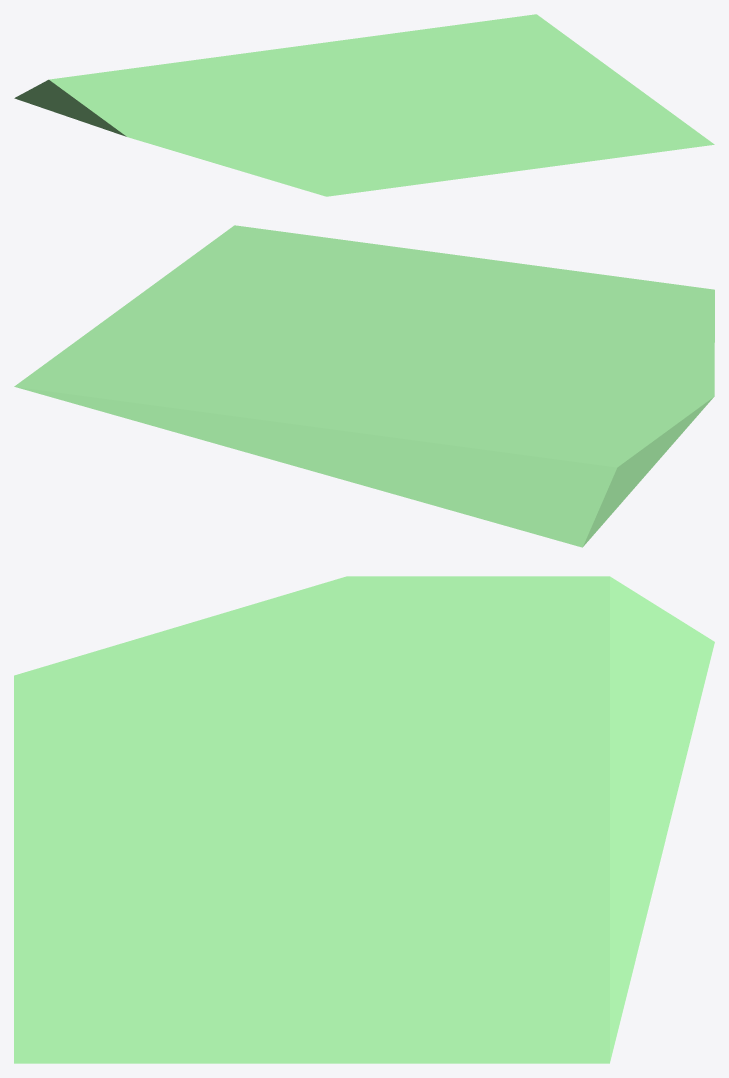
File: UMIRobot_robot_base_coll_25.dae
The picture shows the model from 3 angles, top to bottom: view 1: azimuth 30°, elevation 25°; view 2: azimuth 150°, elevation 25°; view 3: azimuth 270°, elevation 25°; orthographic projection. The views are drawn at different scales.
Visible parts, largest first — view 1: node; view 2: node; view 3: node.
Part boxes in pixels (left/top/right/bottom): node: left=14, top=14, right=714, bottom=196; node: left=14, top=225, right=714, bottom=547; node: left=14, top=576, right=714, bottom=1063.
Size of the model in its own units: 0.0541 by 0.00565 by 0.04.
